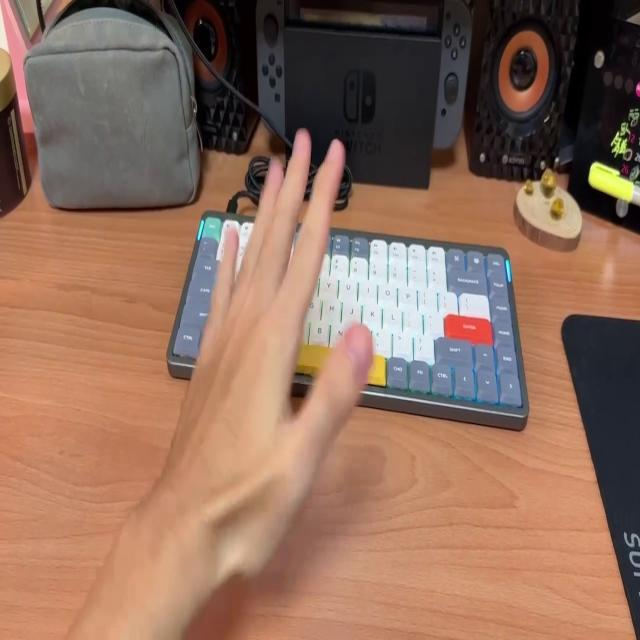keyboard-with-hands: (169, 214, 529, 415)
